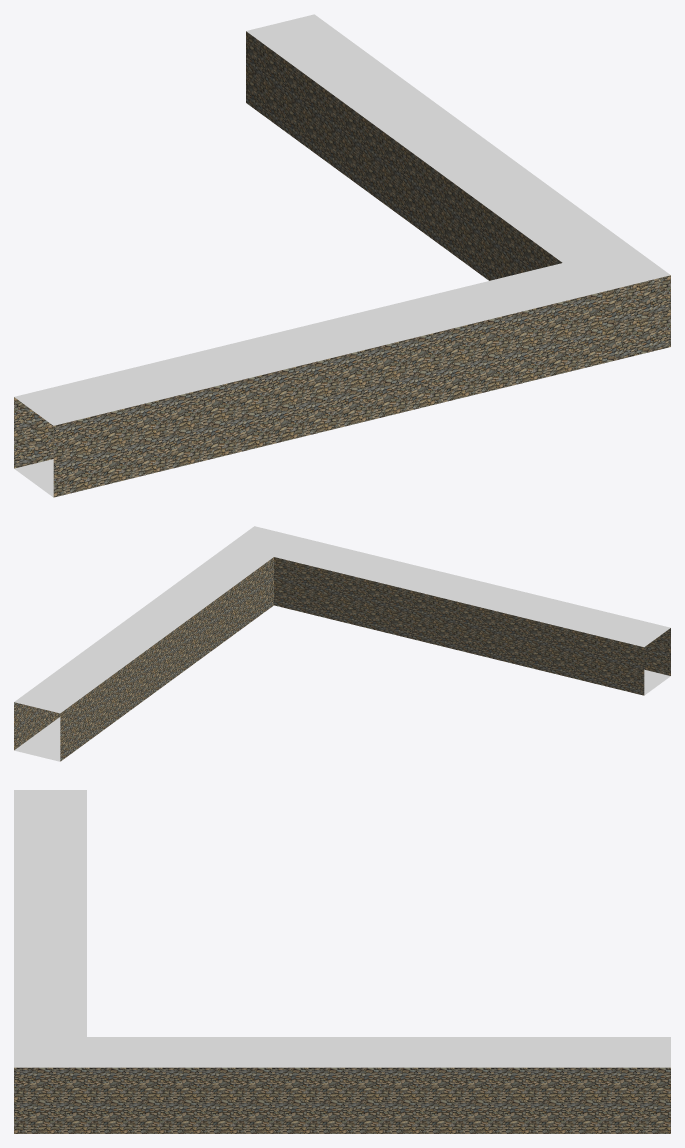
Rendered from tunnel.glb.
The picture shows the model from 3 angles, top to bottom: view 1: azimuth 30°, elevation 25°; view 2: azimuth 150°, elevation 25°; view 3: azimuth 270°, elevation 25°; orthographic projection. The views are drawn at different scales.
Visible parts, largest first — view 1: Plane, Plane.001, Plane.002; view 2: Plane, Plane.001, Plane.002; view 3: Plane.001, Plane, Plane.002.
Boxes of the visible parts, left/top/right/bottom form: Plane: left=14, top=263, right=602, bottom=497; Plane.001: left=246, top=14, right=630, bottom=280; Plane.002: left=563, top=246, right=670, bottom=363; Plane: left=274, top=537, right=670, bottom=695; Plane.001: left=14, top=546, right=273, bottom=761; Plane.002: left=228, top=526, right=300, bottom=556; Plane.001: left=87, top=1037, right=670, bottom=1133; Plane: left=14, top=790, right=86, bottom=1036; Plane.002: left=14, top=1037, right=86, bottom=1133.
Bounding box in the file's own units: 18 × 2 × 18.
Materials: 2 (1 with a texture image).
